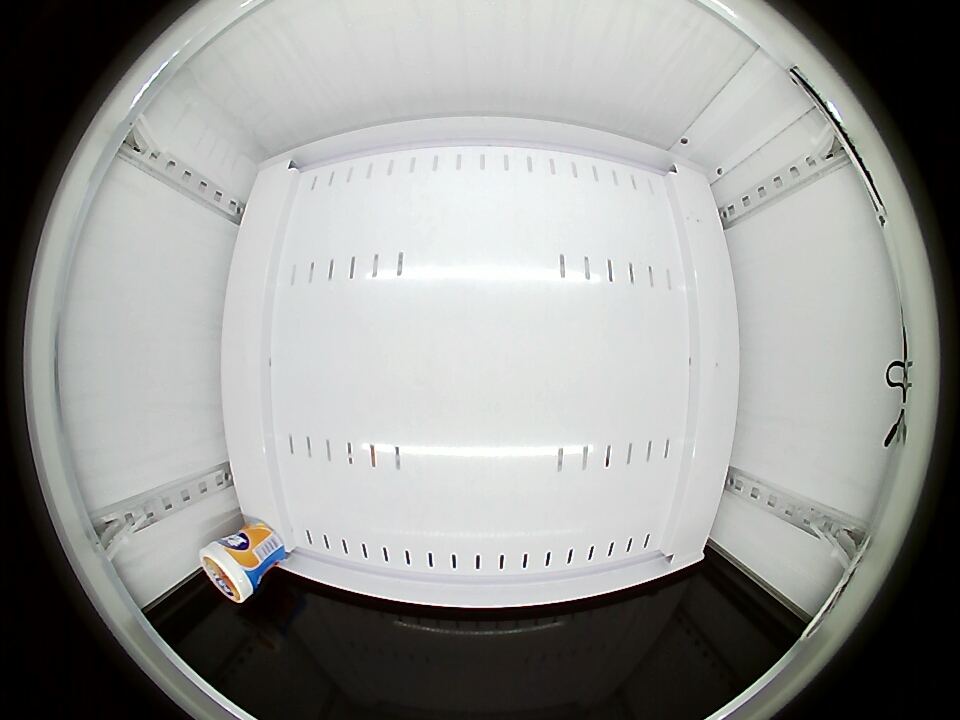yida: (199, 540, 258, 603)
